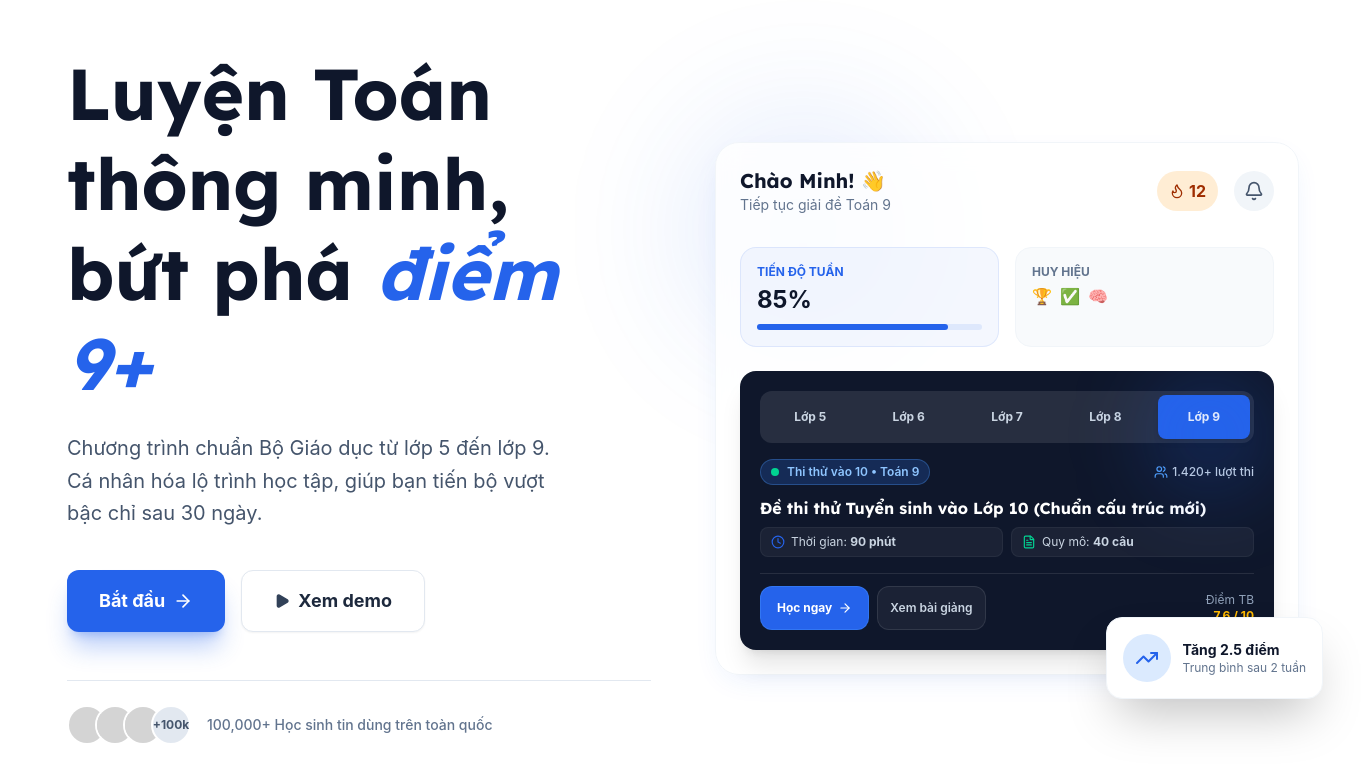
Test: HomeHero › switches exam card content when clicking different grade pills including Grade 5
What coordinates should you click on to do the following:
click the button "Lớp 5"
I would click on:
 (810, 417)
Its box is [764,395,856,439].
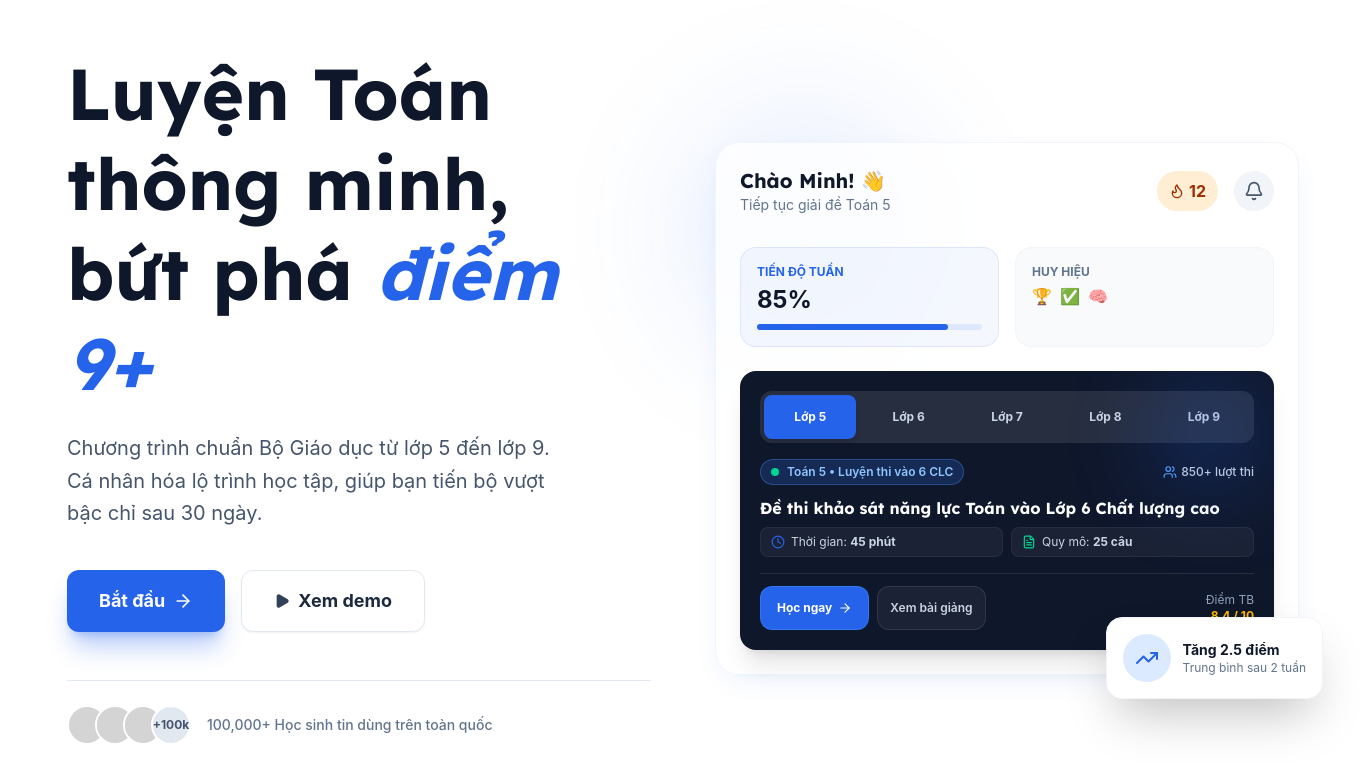
Now the text "Toán 5 • Luyện thi vào 6 CLC" is shown, box [760,459,964,485]
Now the heading "Đề thi khảo sát năng lực Toán vào Lớp 6 Chất lượng cao" is shown, box [760,497,1254,519]
Now the text "45 phút" is shown, box [850,534,896,549]
What coordinates should you click on to do the following:
click the button "Lớp 6"
I would click on:
 (909, 417)
Its box is [862,395,955,439].
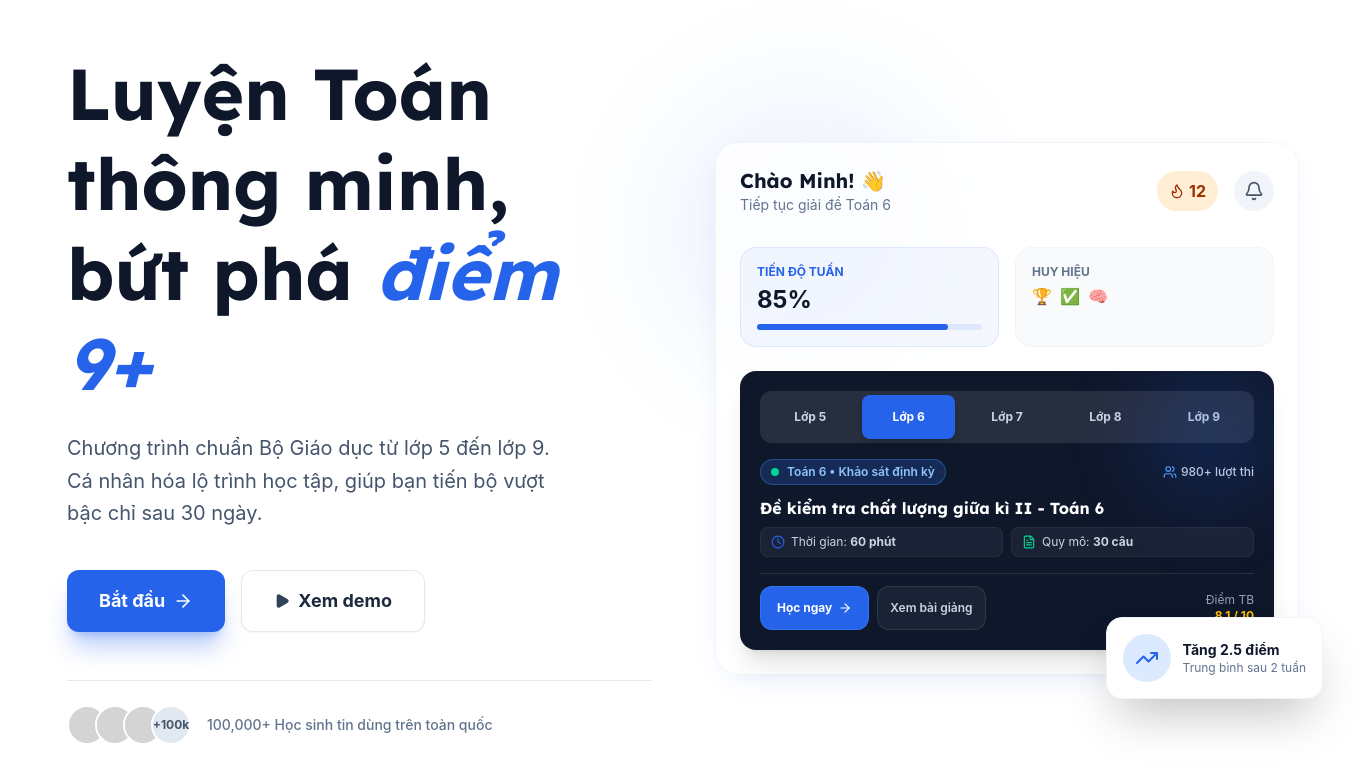
Now the text "Toán 6 • Khảo sát định kỳ" is shown, box [760,459,946,485]
Now the heading "Đề kiểm tra chất lượng giữa kì II - Toán 6" is shown, box [760,498,1104,518]
Now the text "60 phút" is shown, box [850,534,896,549]
